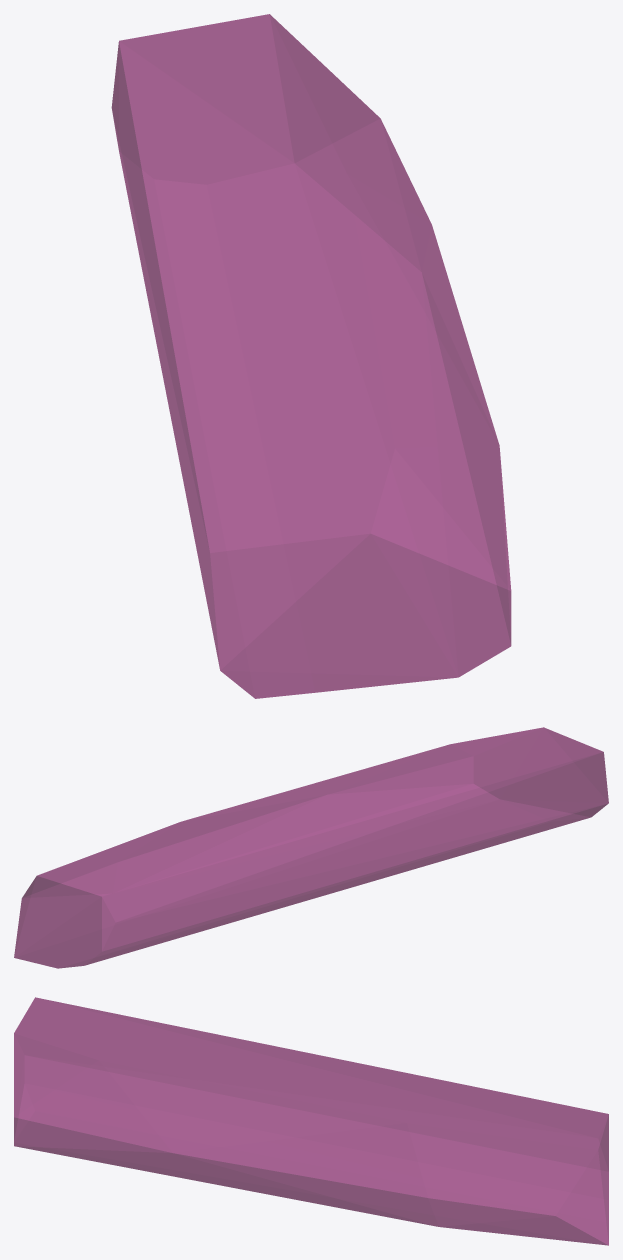
3 renders of one model, top to bottom at view 1: azimuth 30°, elevation 25°; view 2: azimuth 150°, elevation 25°; view 3: azimuth 270°, elevation 25°, orthographic. The views are drawn at different scales.
Visible parts, largest first — view 1: Shape_IndexedFaceSet.061_Shape_IndexedFaceSet.2000; view 2: Shape_IndexedFaceSet.061_Shape_IndexedFaceSet.2000; view 3: Shape_IndexedFaceSet.061_Shape_IndexedFaceSet.2000.
Part boxes in pixels (x1,y1,x2,y2): Shape_IndexedFaceSet.061_Shape_IndexedFaceSet.2000: (111,14,511,698); Shape_IndexedFaceSet.061_Shape_IndexedFaceSet.2000: (14,727,608,968); Shape_IndexedFaceSet.061_Shape_IndexedFaceSet.2000: (14,997,608,1245).
Bounding box in the file's own units: 0.1003 × 0.0237 × 0.1478.
